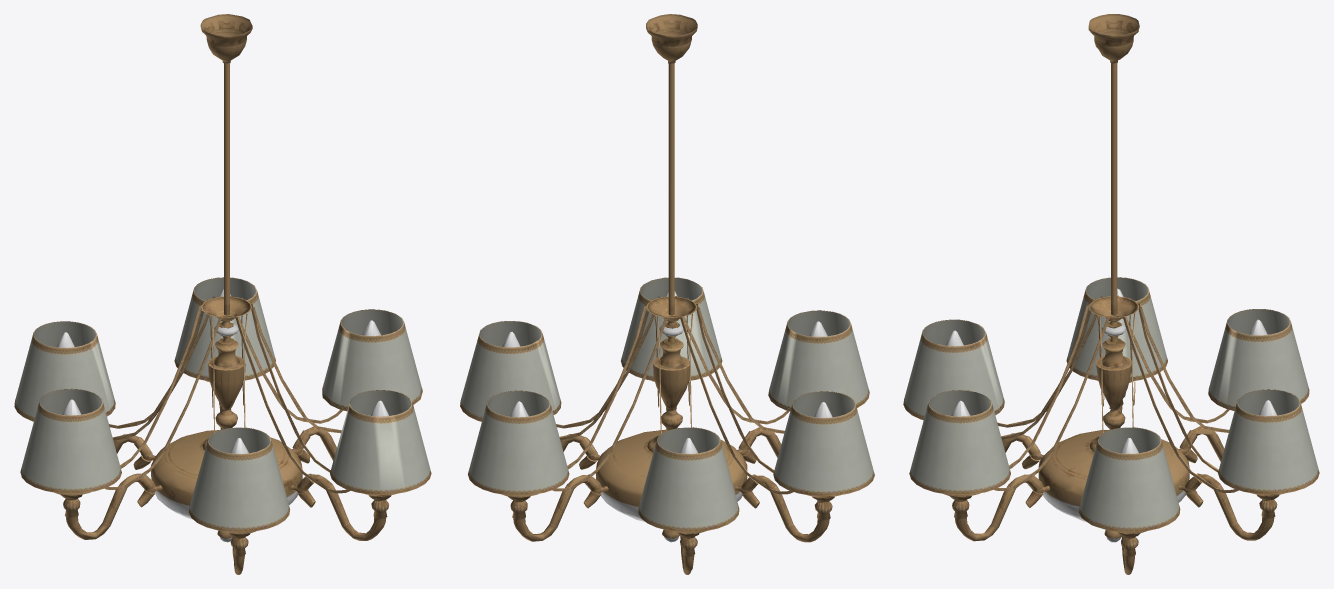
The model's file is Chandelier_02.glb.
The picture shows the model from 3 angles, left to right: view 1: azimuth 30°, elevation 25°; view 2: azimuth 150°, elevation 25°; view 3: azimuth 270°, elevation 25°; orthographic projection.
Visible parts, largest first — view 1: Chandelier_02; view 2: Chandelier_02; view 3: Chandelier_02.
Boxes of the visible parts, box(x1,y1,x2,y2) form: Chandelier_02: box(14, 14, 431, 574); Chandelier_02: box(460, 14, 874, 574); Chandelier_02: box(903, 14, 1319, 574).
Bounding box in the file's own units: 0.6788 × 0.8481 × 0.619.
Materials: 2 (1 with a texture image).
